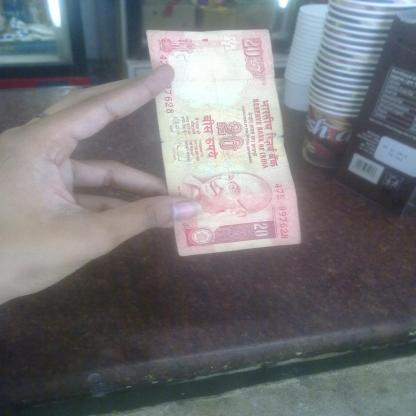Old20Front: (147, 29, 302, 256)
